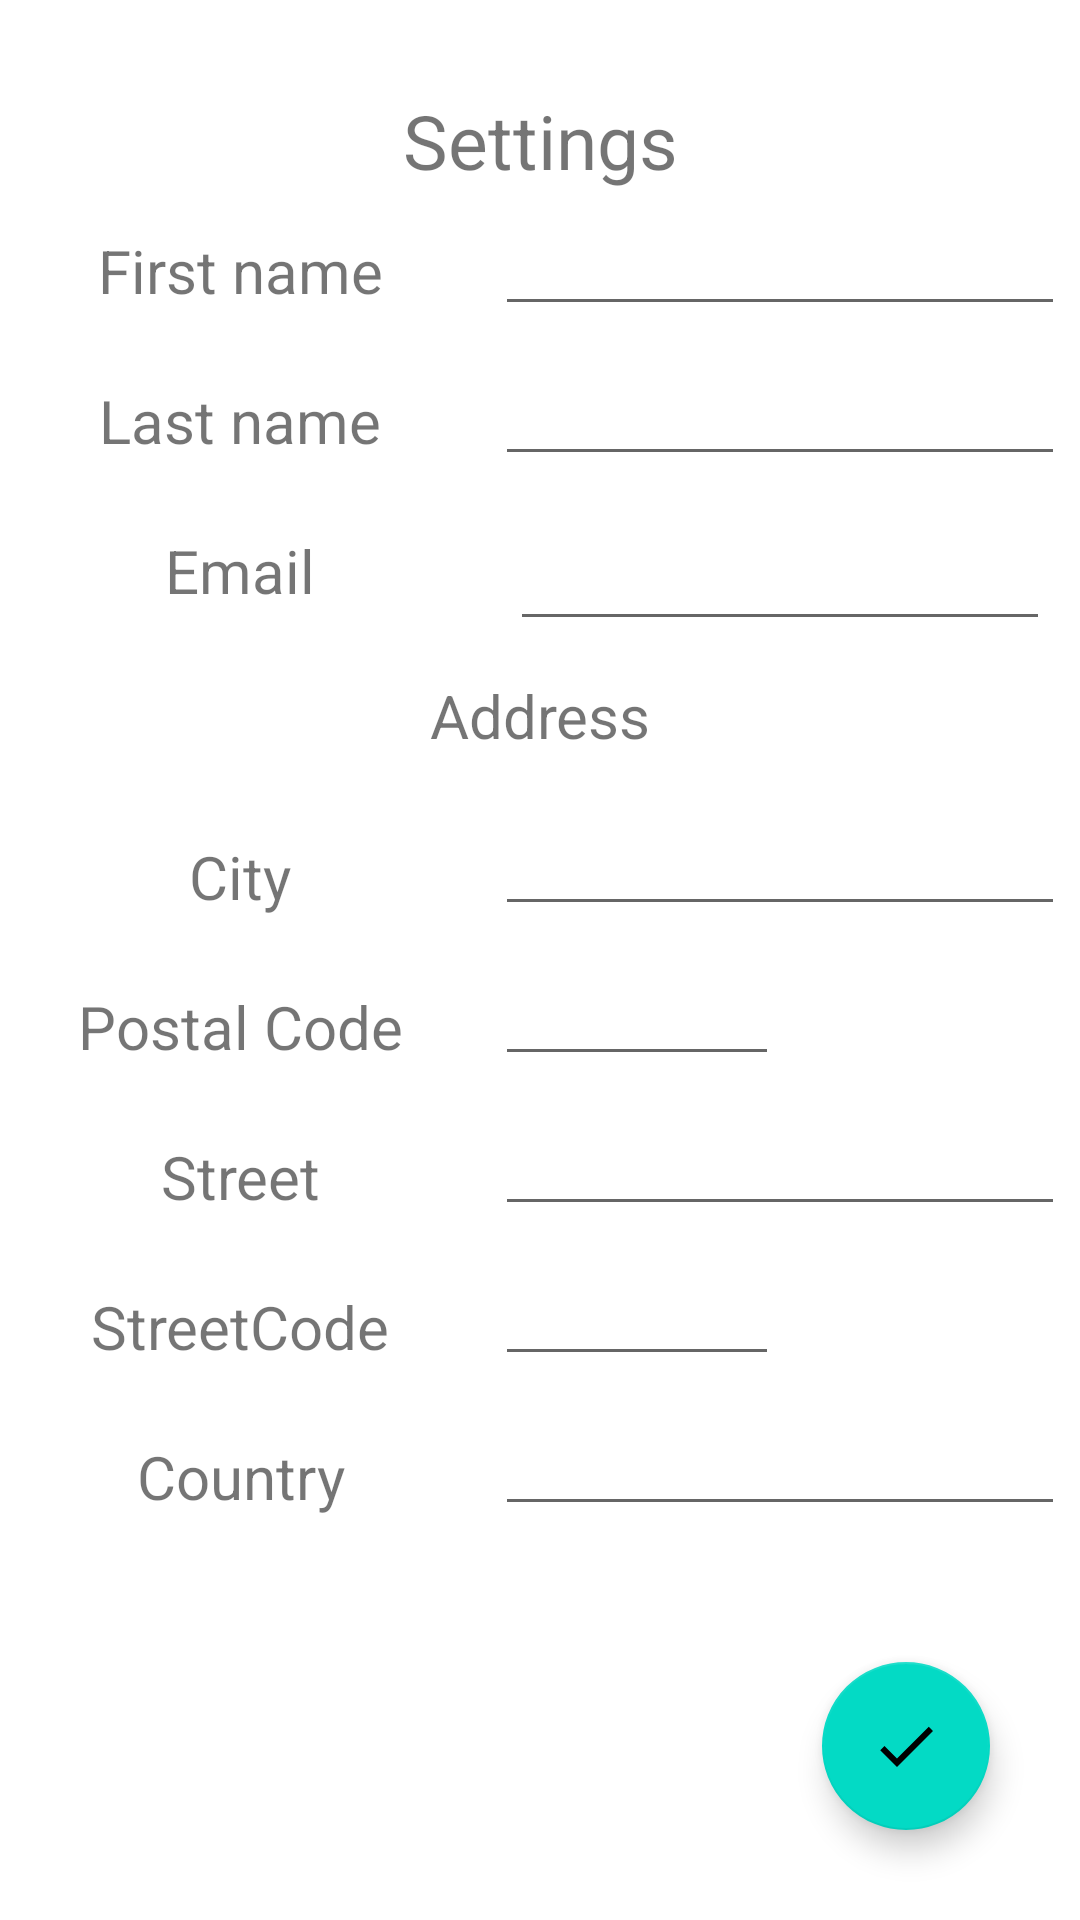

Locate icon controls on the screen. Image size 1080 × 1920, boxes as (x1, y1, x2, y2).
check: (822, 1662, 990, 1830)
